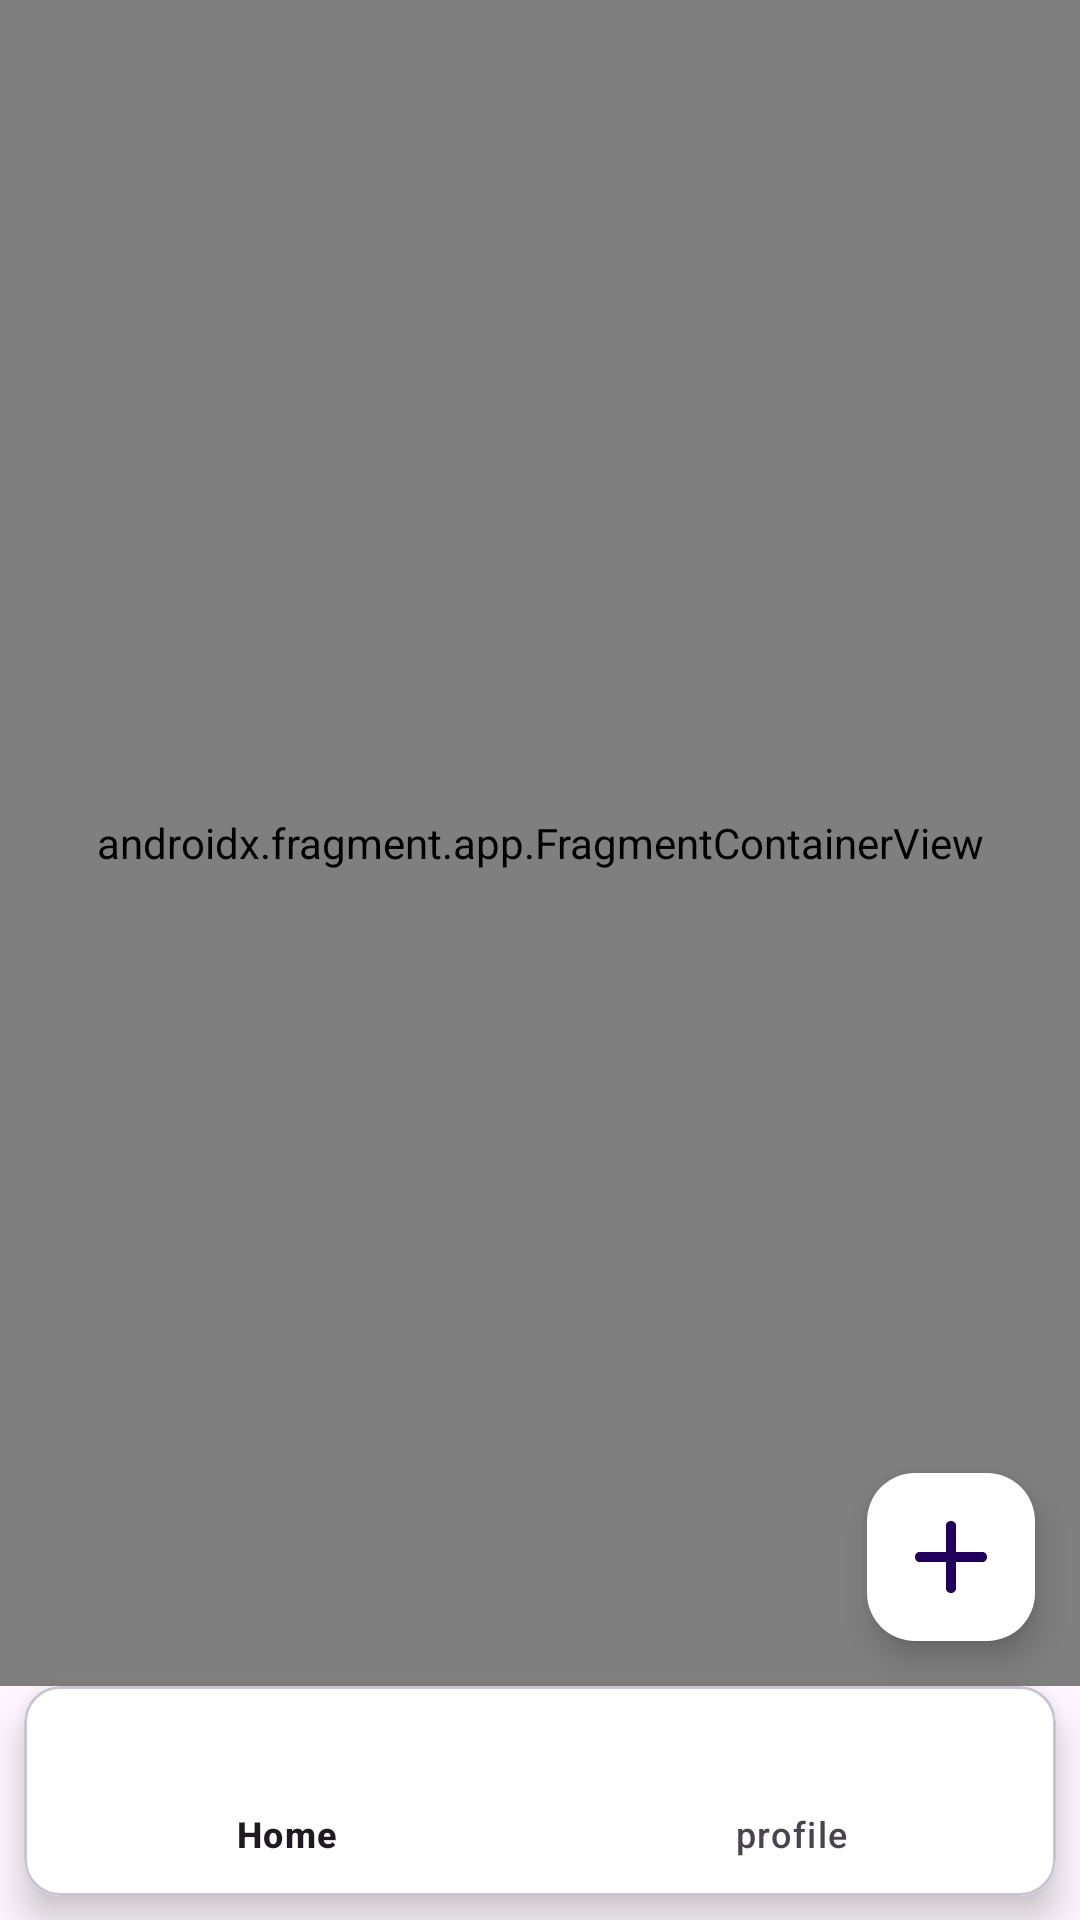

Where icons sit on this 1080 × 1920 app screen, as (x1, y1, x2, y2):
add: (867, 1473, 1035, 1641)
